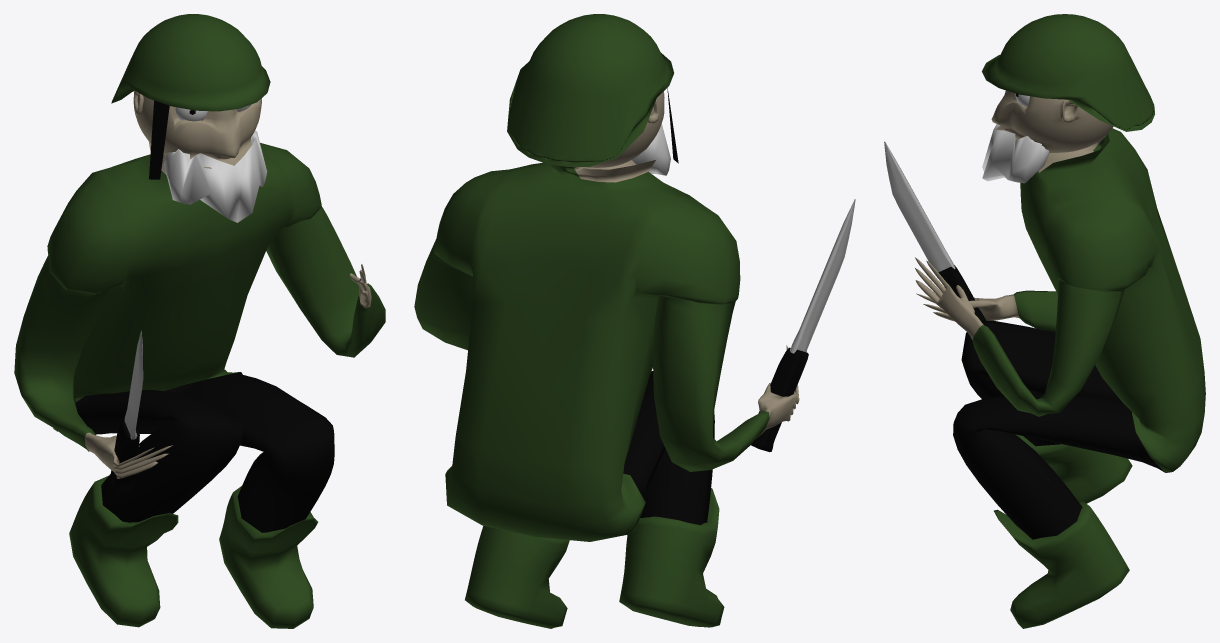
File: MC Jump.fbx
3 views of the same model, side by side, from view 1: azimuth 30°, elevation 25°; view 2: azimuth 150°, elevation 25°; view 3: azimuth 270°, elevation 25° (orthographic). The views are drawn at different scales.
Visible parts, largest first — view 1: Body, Boot, Helmet, Beard, Head, Knife2:polySurface11; view 2: Body, Helmet, Boot, Knife2:polySurface11, Head, Beard; view 3: Body, Helmet, Boot, Head, Knife2:polySurface11, Beard.
Boxes of the visible parts, x1,y1,x2,y2 form: Body: (14,141,385,532); Boot: (69,475,318,628); Helmet: (111,14,270,179); Beard: (163,131,267,222); Head: (133,90,261,168); Knife2:polySurface11: (110,330,143,495); Body: (414,160,799,541); Helmet: (507,14,678,166); Boot: (465,488,724,628); Knife2:polySurface11: (751,199,855,452); Head: (585,91,664,167); Beard: (632,123,670,175); Body: (915,128,1205,539); Helmet: (982,14,1154,131); Boot: (994,434,1132,628); Head: (991,90,1113,153); Knife2:polySurface11: (884,141,986,320); Beard: (982,124,1049,183).
Bounding box in the file's own units: 4.04 × 7.19 × 3.67.
